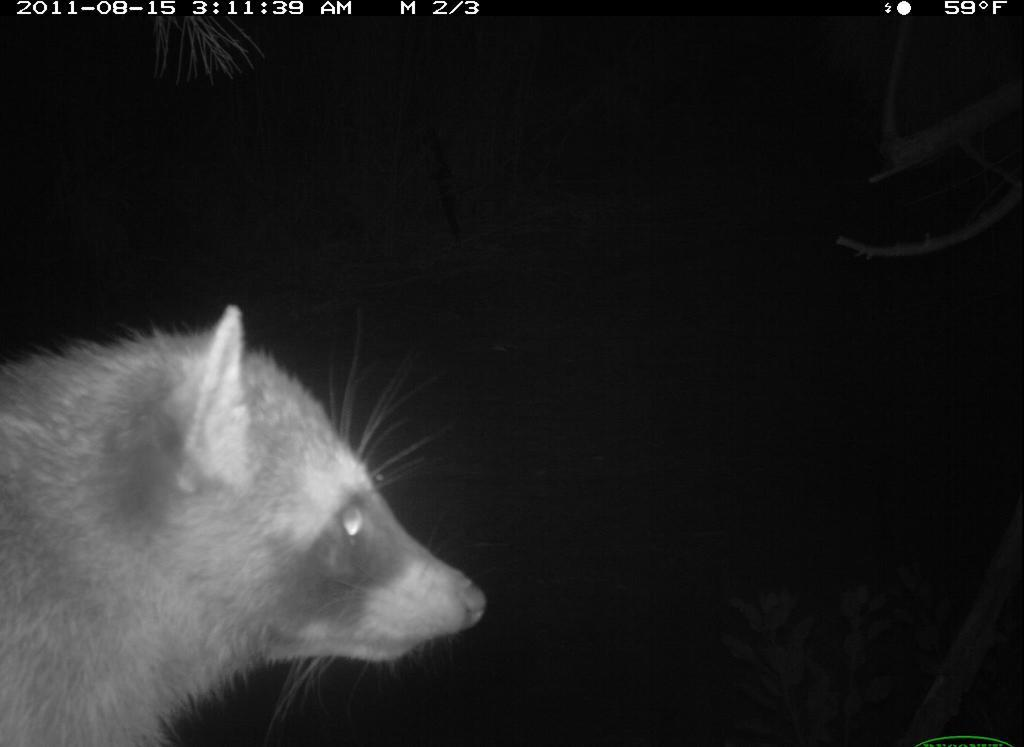raccoon: (7, 305, 506, 747)
